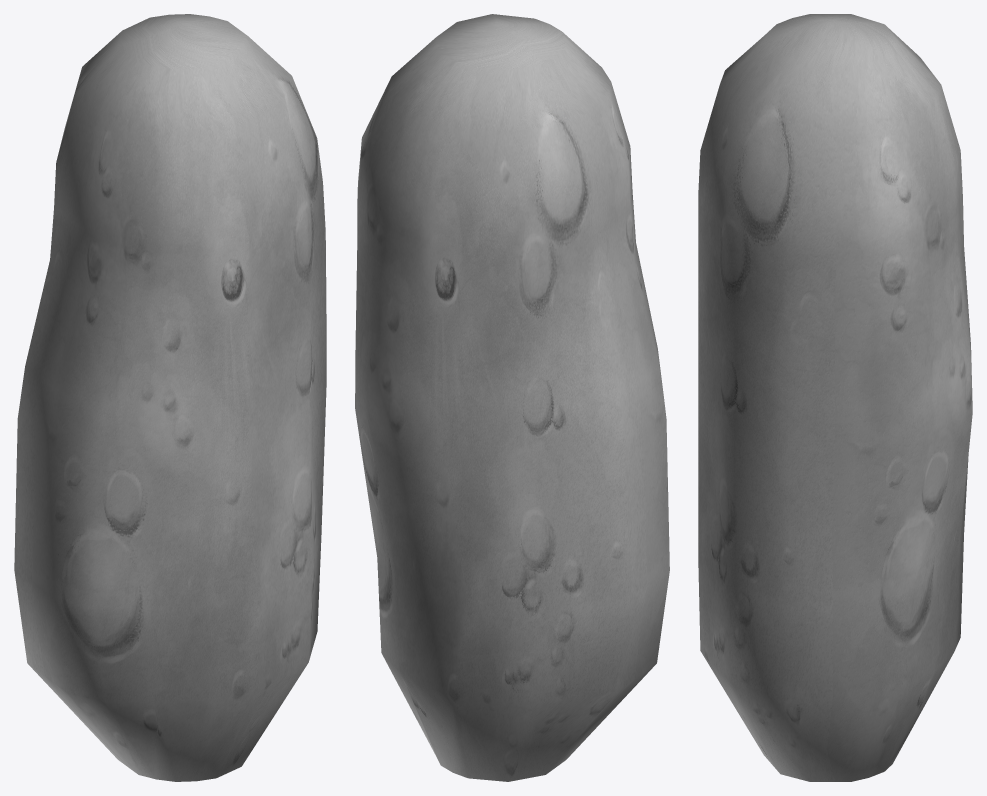
File: rock0202.fbx
The picture shows the model from 3 angles, left to right: view 1: azimuth 30°, elevation 25°; view 2: azimuth 150°, elevation 25°; view 3: azimuth 270°, elevation 25°; orthographic projection.
Parts seen in each view (by area): view 1: pCylinder1; view 2: pCylinder1; view 3: pCylinder1.
Part boxes in pixels (x1,y1,x2,y2): pCylinder1: (14, 14, 326, 781); pCylinder1: (355, 14, 669, 781); pCylinder1: (698, 14, 972, 781).
Size of the model in its own units: 113 by 298 by 98.65.
Materials: 1 (1 with a texture image).
